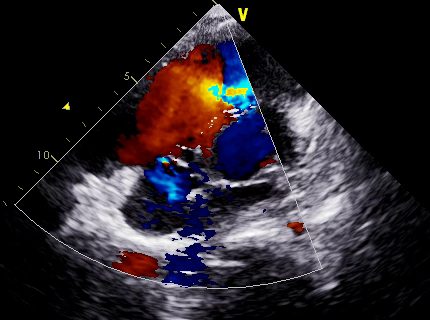TR: (134, 145, 218, 222)
